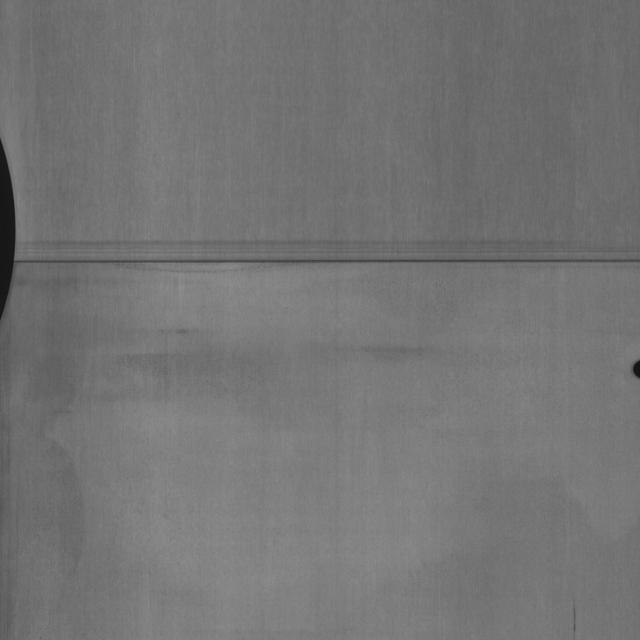crease: (11, 248, 640, 288)
silk_spot: (0, 119, 21, 317)
